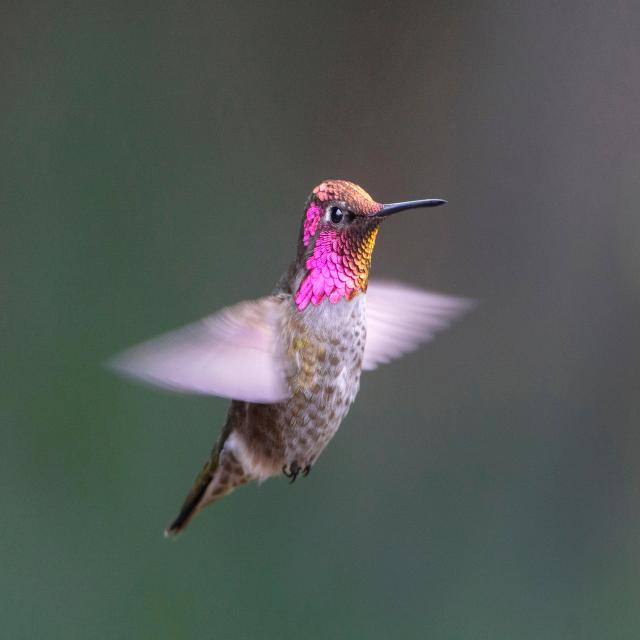Humming Bird: (108, 179, 472, 552)
